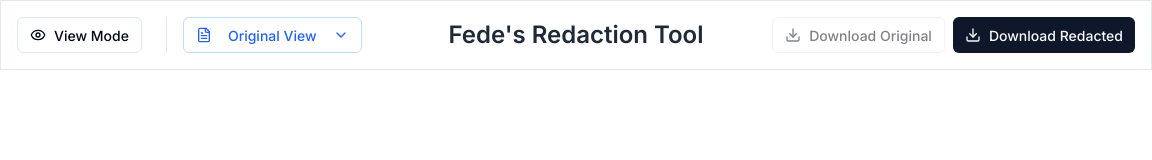
Test case: Toolbar › should handle view toggle functionality
// Click view toggle to open dropdown
Click the button "Original View": (272,35) [183,17,362,53]
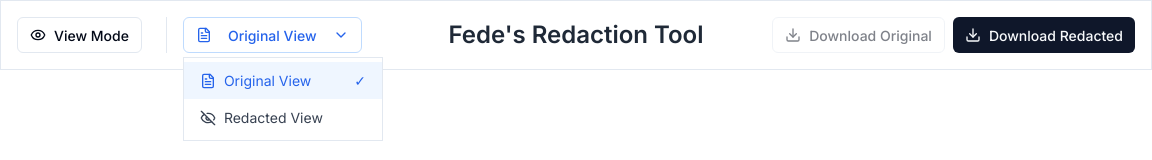
Check: the button "Redacted View" is shown
// Click Redacted View to switch
Click the button "Redacted View": (283,118) [184,99,382,136]
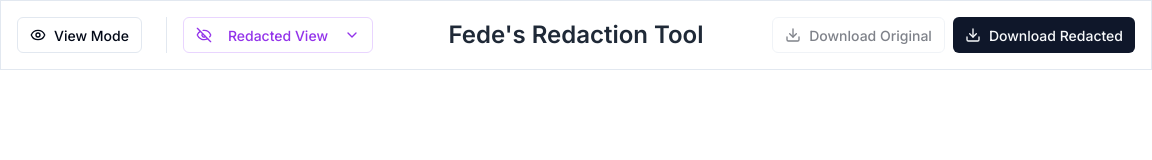
Check: the button "Redacted View" is shown, box [183,17,373,53]
